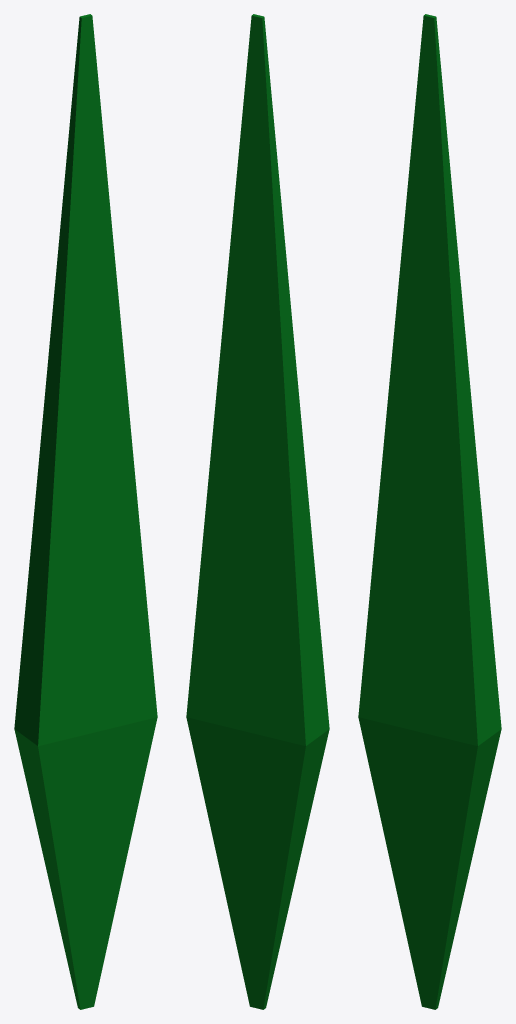
File: Projectile_Kelp.fbx
3 renders of one model, left to right at view 1: azimuth 30°, elevation 25°; view 2: azimuth 150°, elevation 25°; view 3: azimuth 330°, elevation 25°, orthographic.
Parts seen in each view (by area): view 1: Cubo; view 2: Cubo; view 3: Cubo.
Part boxes in pixels (left/top/right/bottom): Cubo: left=14, top=14, right=157, bottom=1009; Cubo: left=186, top=14, right=329, bottom=1009; Cubo: left=358, top=14, right=501, bottom=1009.
Bounding box in the file's own units: 149 × 1182 × 51.25.
